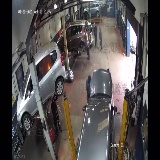fire: (45, 59, 51, 72)
